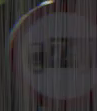Heavy Vehicles: (17, 19, 90, 85)
